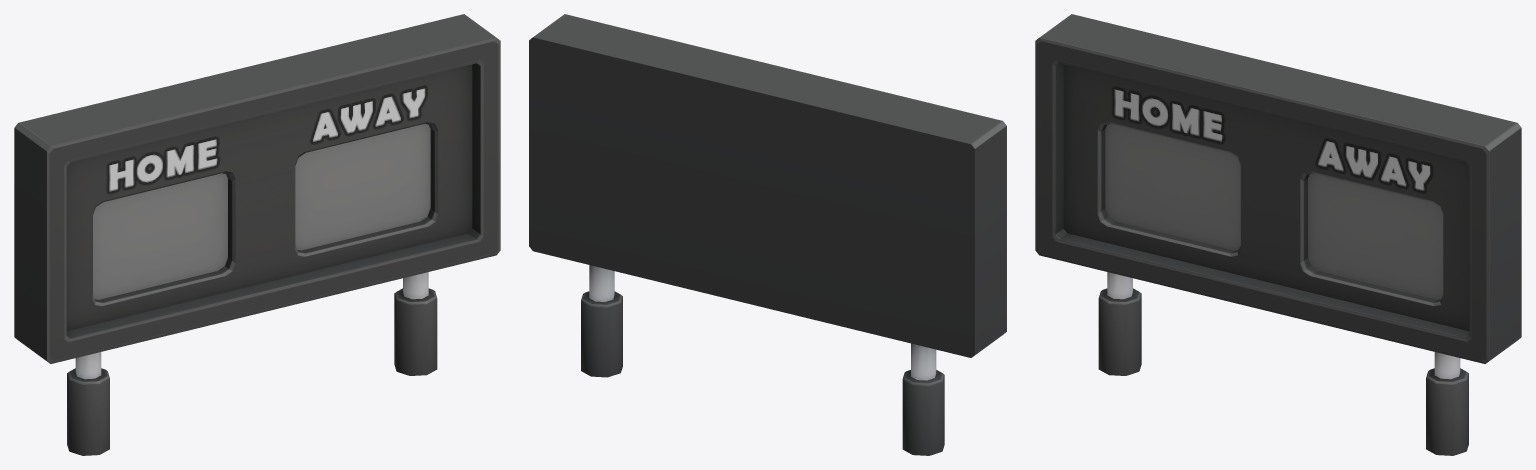
File: scoreboard.fbx
3 renders of one model, left to right at view 1: azimuth 30°, elevation 25°; view 2: azimuth 150°, elevation 25°; view 3: azimuth 330°, elevation 25°, orthographic.
Visible parts, largest first — view 1: scoreboard; view 2: scoreboard; view 3: scoreboard.
Boxes of the visible parts, x1,y1,x2,y2 form: scoreboard: (14, 14, 500, 455); scoreboard: (529, 14, 1006, 455); scoreboard: (1035, 14, 1521, 455).
Bounding box in the file's own units: 380 × 265 × 47.79.
